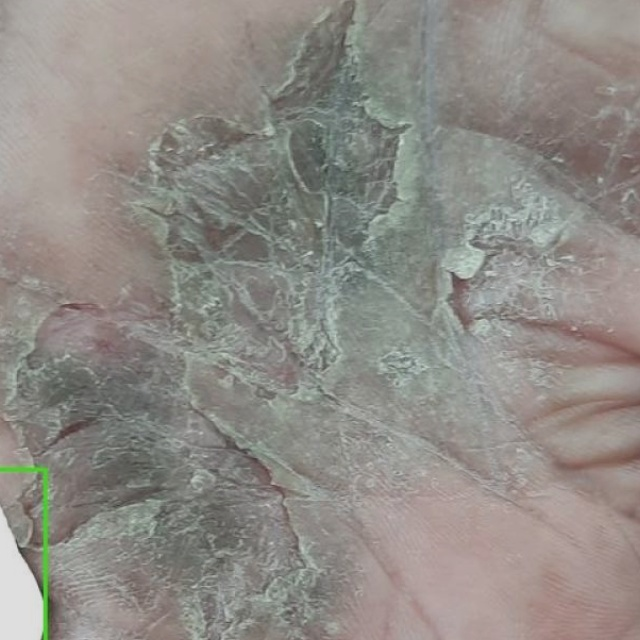Contact Dermatitis: (0, 470, 45, 639)
